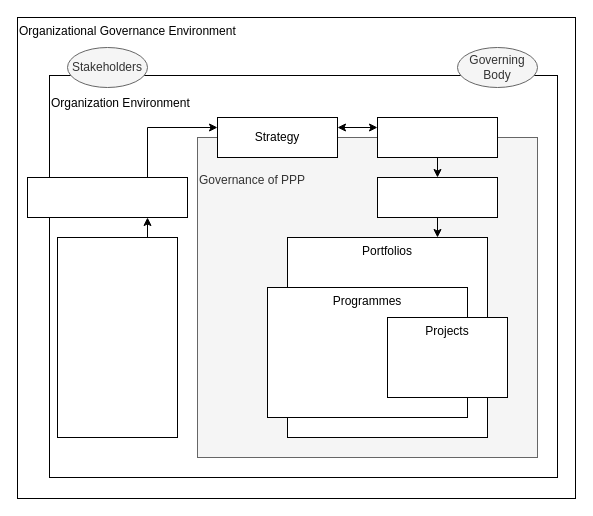
Image size: 593x516. Some labels were removed from this diagram. Each missing label, with the centre of its shape:
Operations: the point at 117,337
Opportunities & Threats: the point at 437,137
Requirements/ Business Cases: the point at 437,197
Results: the point at 107,197
